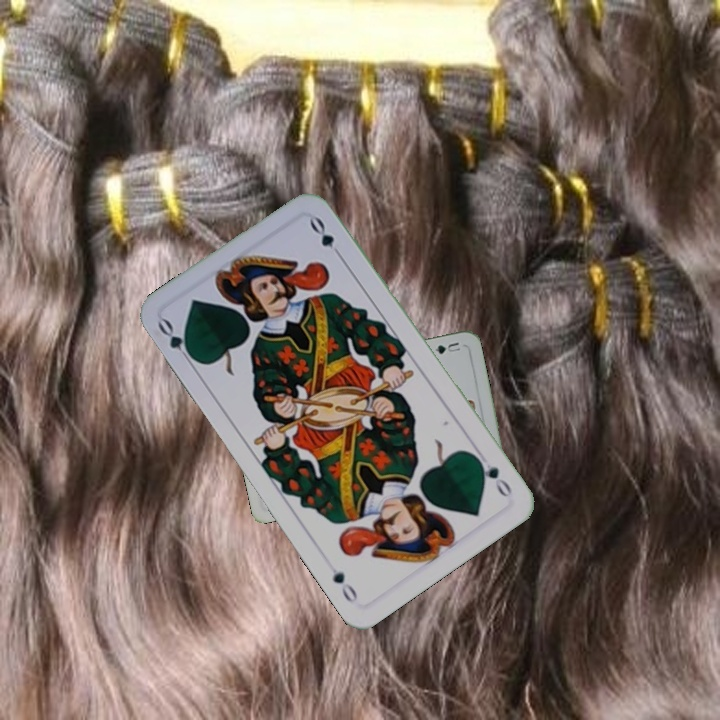GO: (153, 314, 199, 368), (471, 450, 515, 500)
GU: (425, 338, 463, 357)
